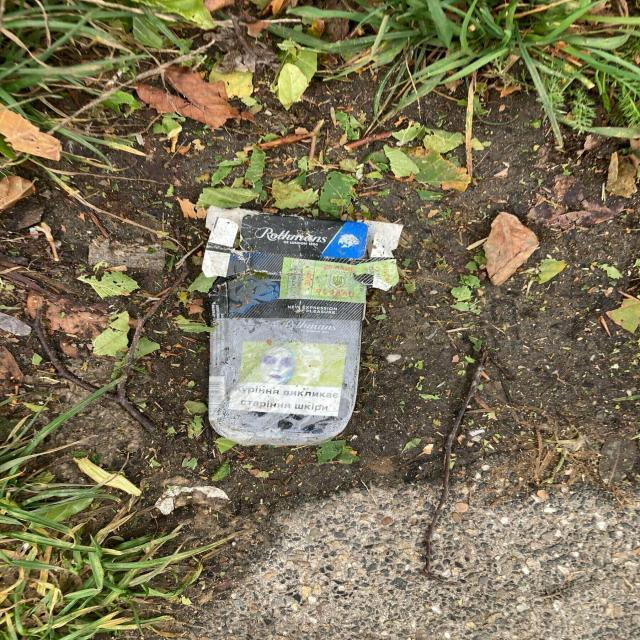Paper: (197, 202, 405, 449)
